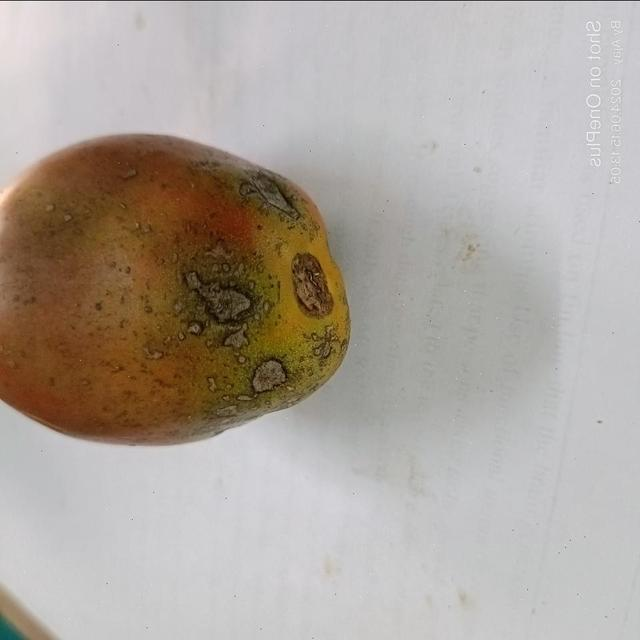Bacterial Spot Fruit: (28, 28, 209, 250)
